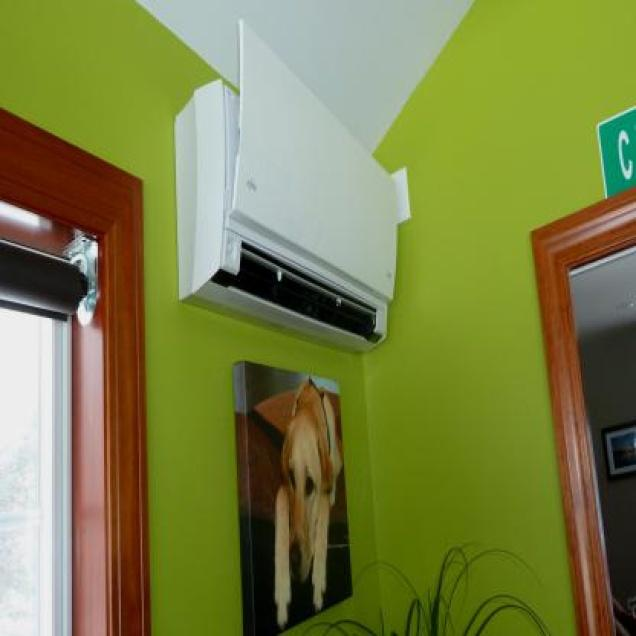AC: (171, 16, 400, 353)
